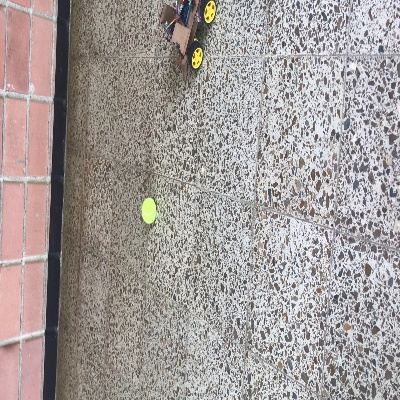Ball: (142, 198, 155, 223)
Robot: (159, 0, 216, 79)
